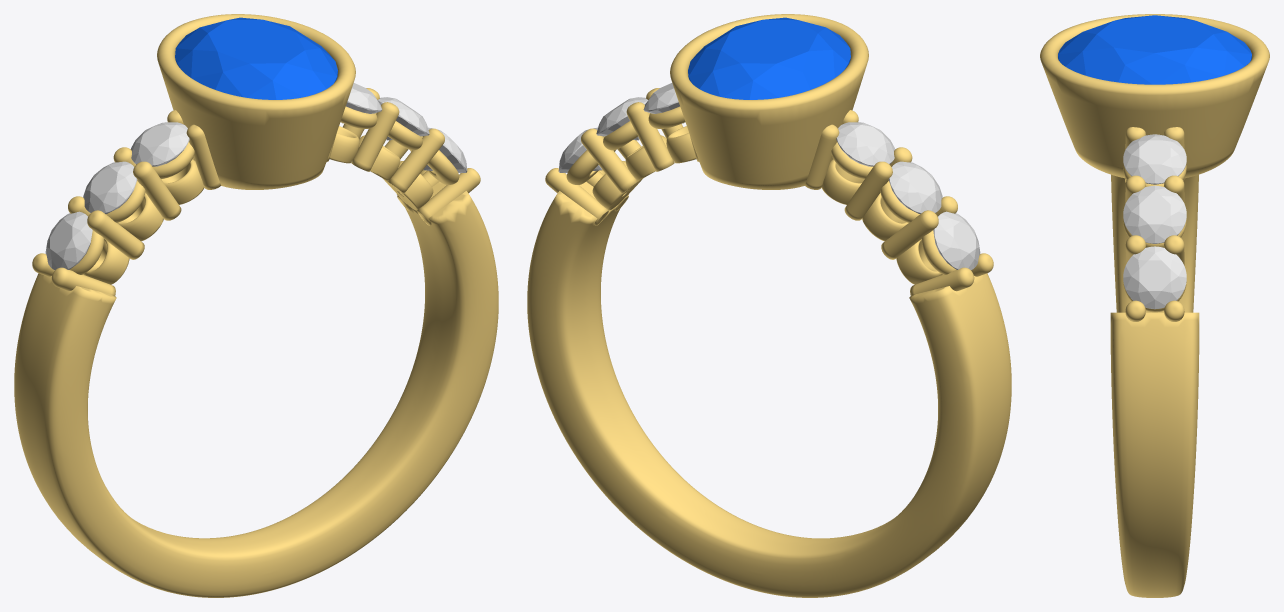
The model's file is bluesapphire-oval-yellowgold-bezelset-straighttaperedband-7stone.glb.
3 views of the same model, side by side, from view 1: azimuth 30°, elevation 25°; view 2: azimuth 150°, elevation 25°; view 3: azimuth 270°, elevation 25° (orthographic).
Visible parts, largest first — view 1: metal, stone.002, side.018, side.019, side.020, side.022, side.023; view 2: metal, stone.002, side.018, side.019, side.020, side.022, side.023; view 3: metal, stone.002, side.021, side.022, side.023.
Part boxes in pixels (x1=…): metal: x1=14, y1=14, x2=498, y2=597; stone.002: x1=175, y1=17, x2=337, y2=99; side.018: x1=45, y1=211, x2=92, y2=270; side.019: x1=83, y1=161, x2=137, y2=213; side.020: x1=130, y1=122, x2=189, y2=166; side.022: x1=377, y1=97, x2=429, y2=140; side.023: x1=342, y1=83, x2=382, y2=123; metal: x1=527, y1=14, x2=1011, y2=597; stone.002: x1=688, y1=17, x2=850, y2=99; side.018: x1=933, y1=211, x2=980, y2=270; side.019: x1=888, y1=161, x2=942, y2=213; side.020: x1=836, y1=122, x2=895, y2=166; side.022: x1=596, y1=97, x2=648, y2=140; side.023: x1=643, y1=83, x2=683, y2=123; metal: x1=1040, y1=14, x2=1269, y2=597; stone.002: x1=1058, y1=15, x2=1251, y2=84; side.021: x1=1123, y1=246, x2=1186, y2=309; side.022: x1=1123, y1=185, x2=1186, y2=243; side.023: x1=1123, y1=134, x2=1186, y2=184.
Size of the model in its own units: 20.49 by 23.41 by 9.04.
